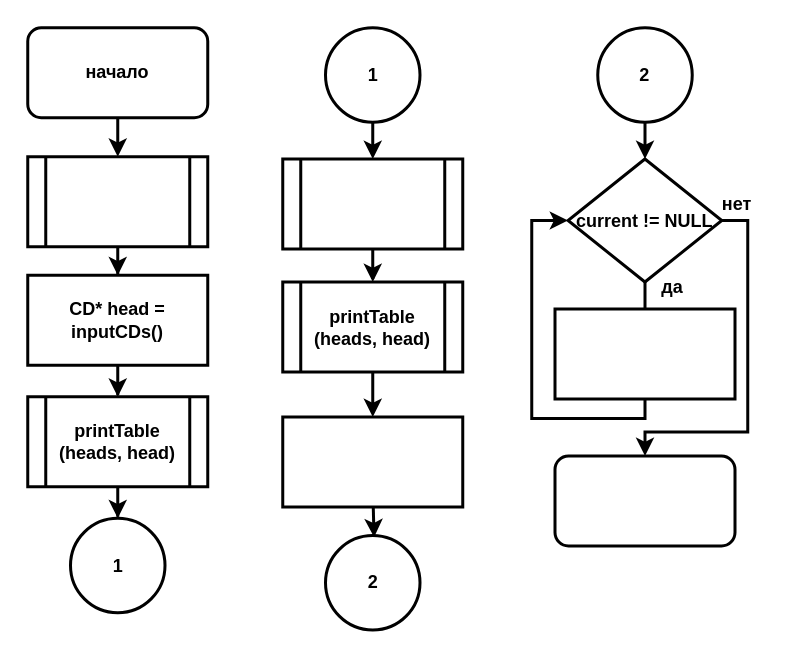
Image size: 807x657. Some labels were removed from this diagram. Each missing label, with the box of its shape:
CD* current = head: (280, 415, 464, 508)
CD* temp = current, current = current->next, free(temp): (553, 307, 736, 400)
inputHeads (&heads): (26, 154, 208, 248)
swapRows (&head): (280, 157, 464, 250)
конец: (553, 454, 736, 547)
